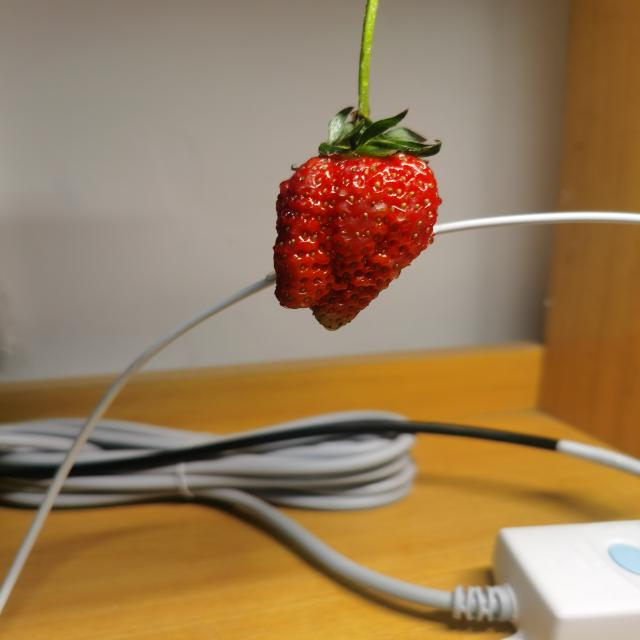stem: (352, 37, 372, 151)
strawberry: (273, 146, 440, 331)
